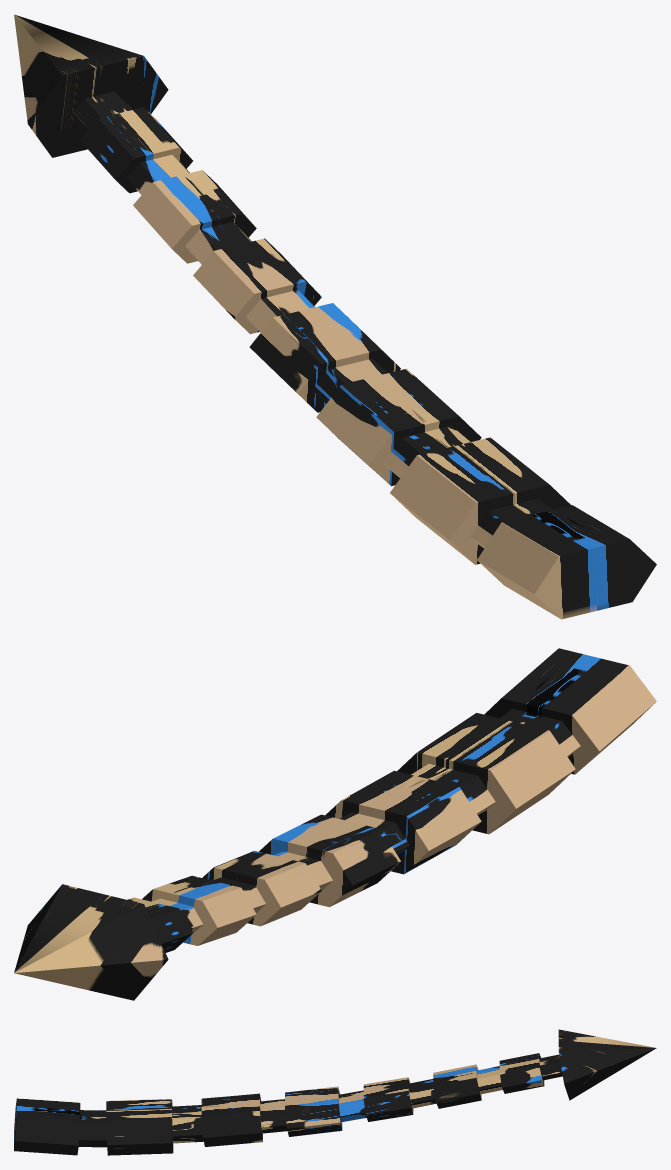
File: weiba.FBX
3 views of the same model, one above another, from view 1: azimuth 30°, elevation 25°; view 2: azimuth 150°, elevation 25°; view 3: azimuth 270°, elevation 25° (orthographic). The views are drawn at different scales.
Parts seen in each view (by area): view 1: weiba; view 2: weiba; view 3: weiba.
Part boxes in pixels (x1,y1,x2,y2): weiba: (14, 14, 656, 619); weiba: (14, 648, 656, 1000); weiba: (14, 1029, 656, 1155).
Bounding box in the file's own units: 10.65 × 13.83 × 76.39.
